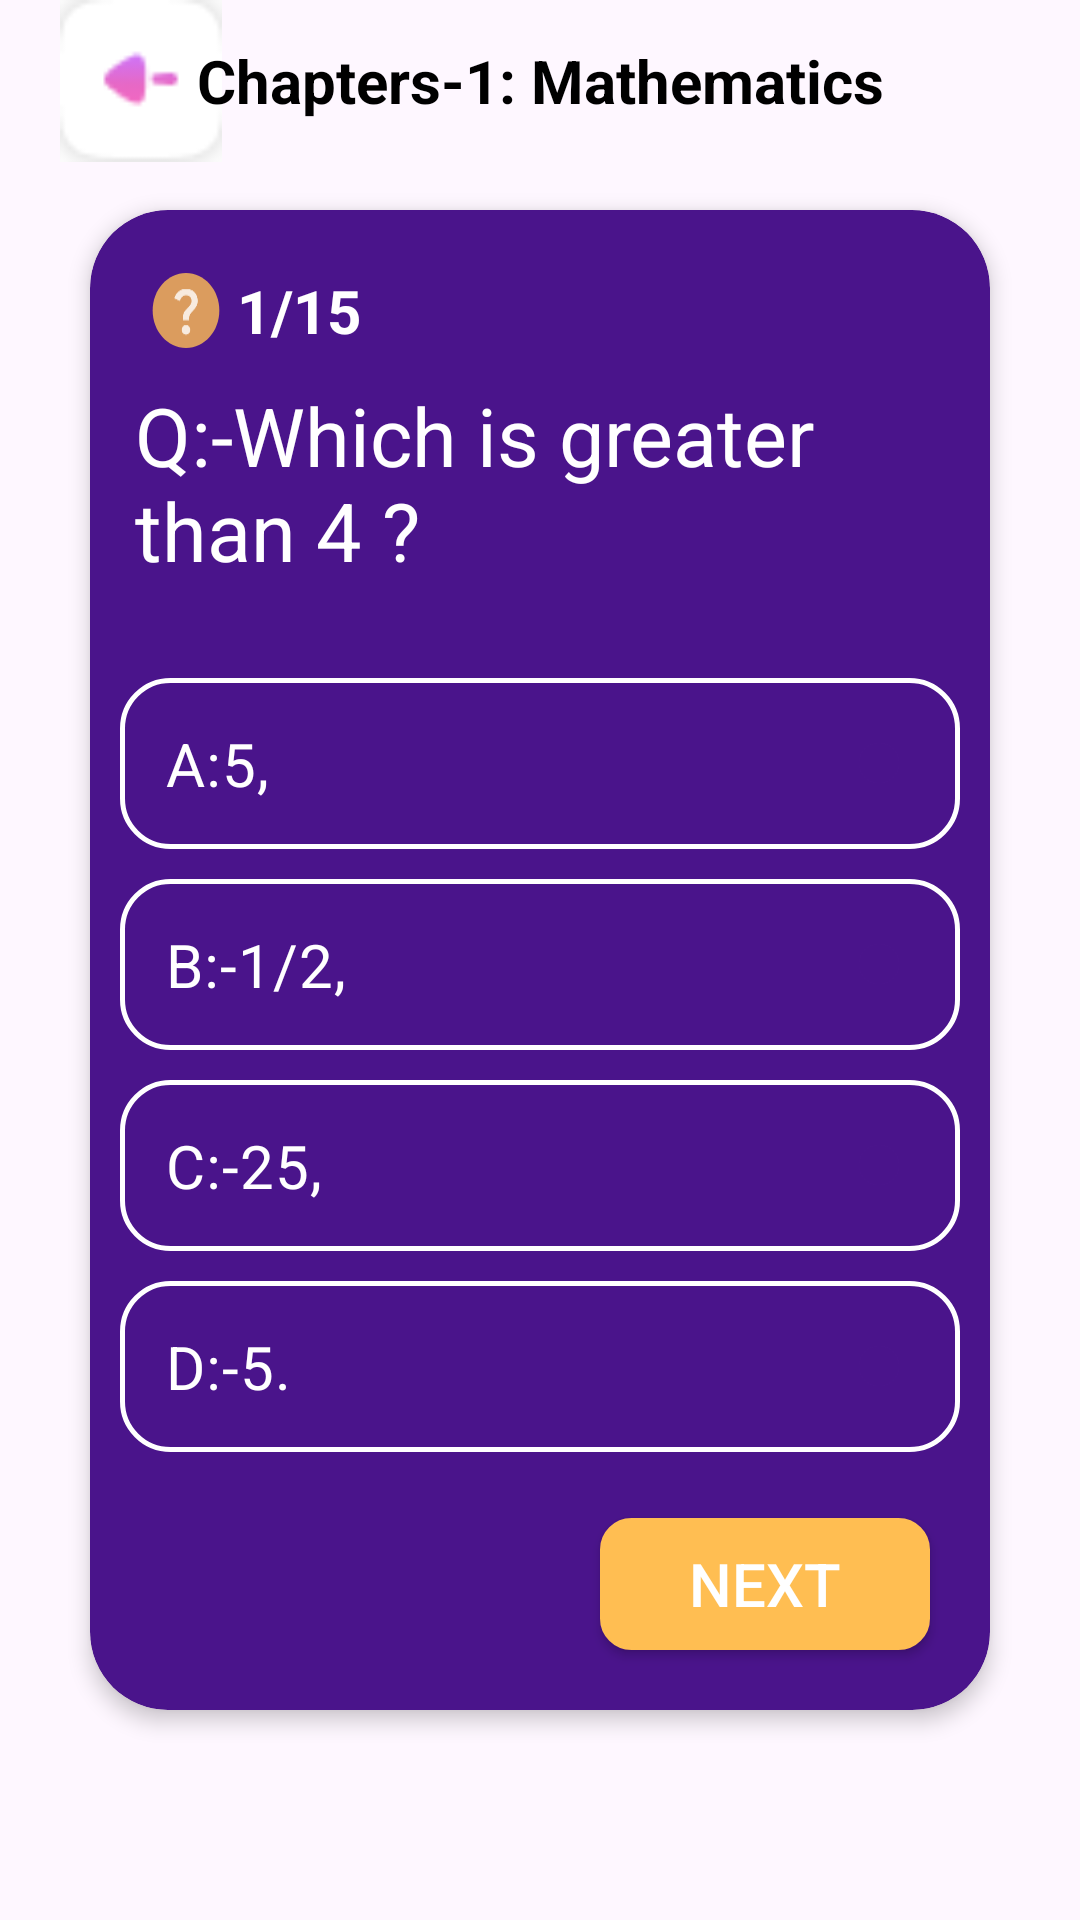

Locate icon controls on the screen. Image size 1080px x 1920px, boxes as [x1, y1, x2, y2].
arrow: [103, 52, 179, 106]
